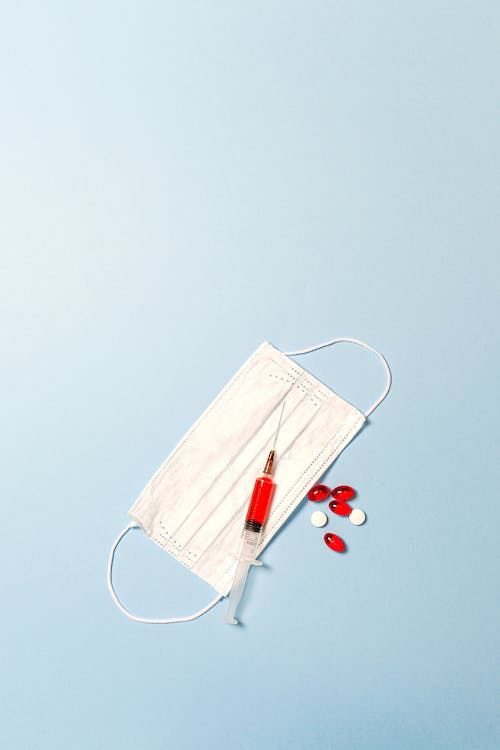blood: (241, 446, 280, 534)
